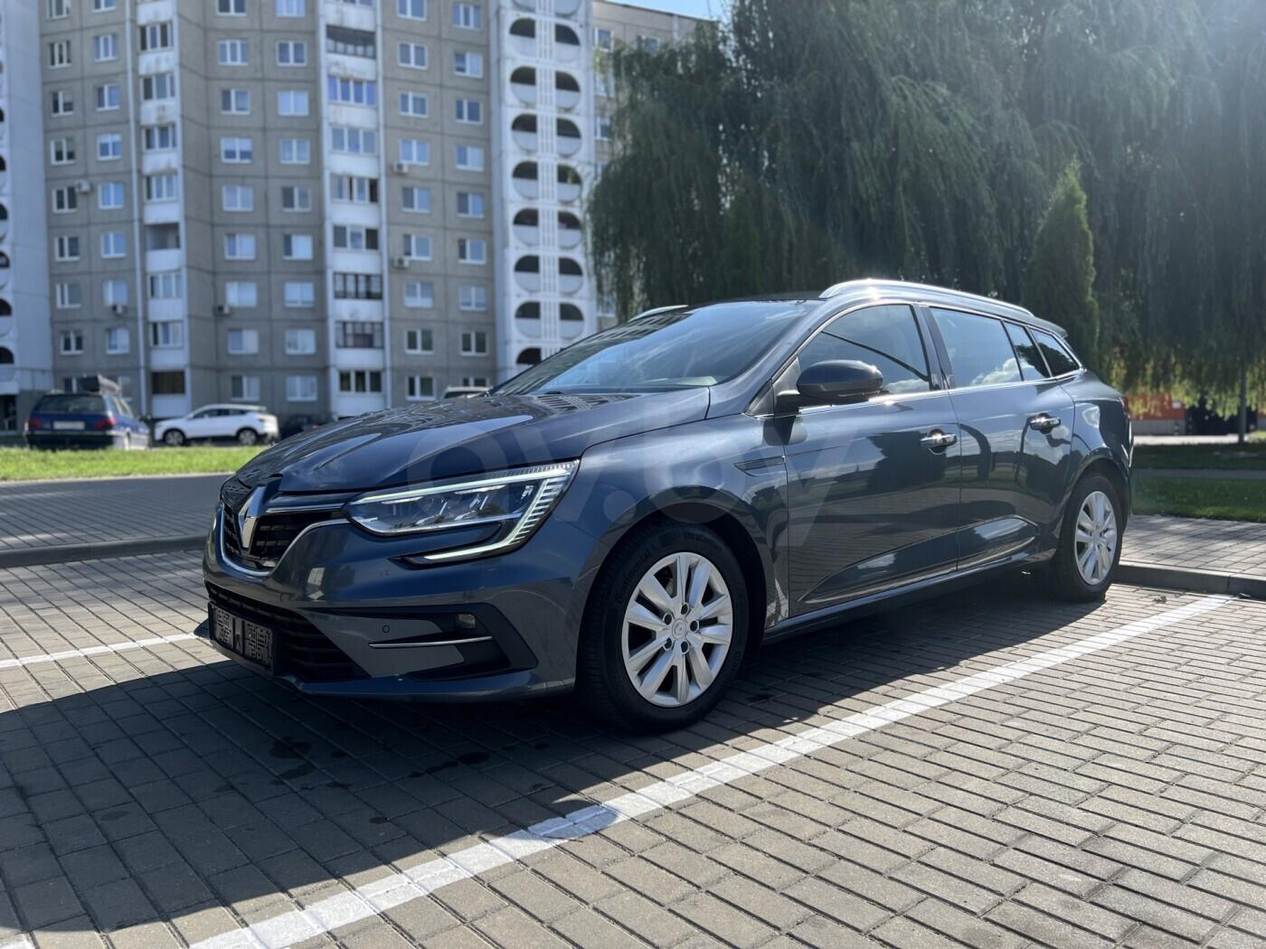Megane_2020: (200, 276, 1137, 714)
